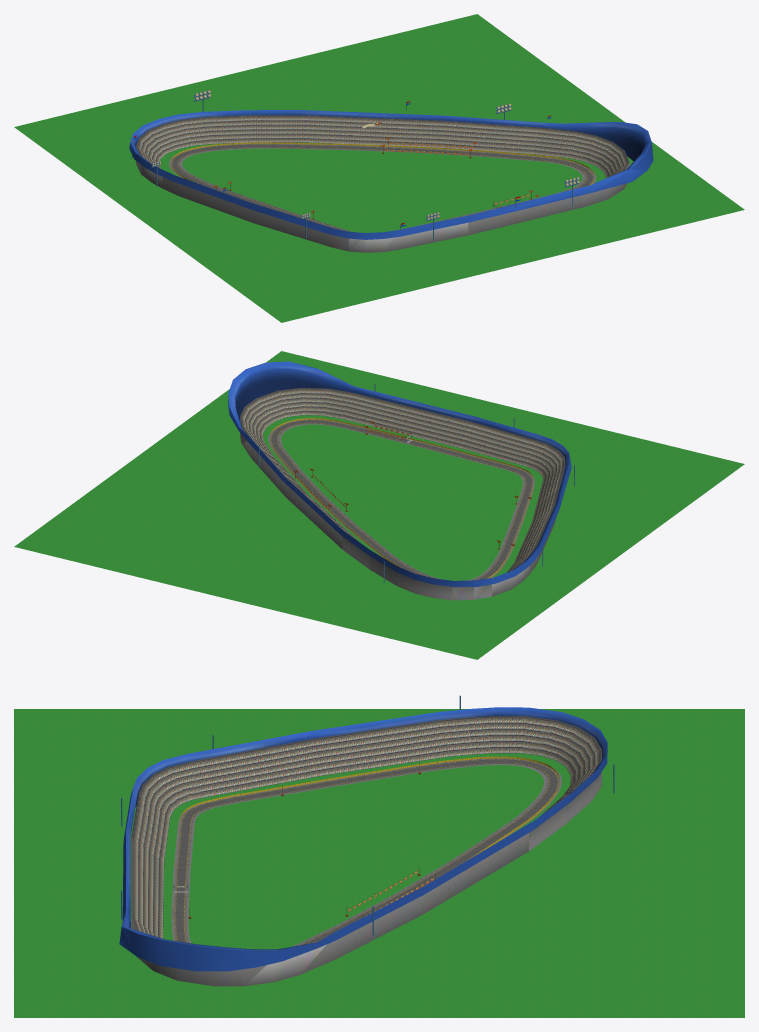
File: speedway_a.glb
3 renders of one model, top to bottom at view 1: azimuth 30°, elevation 25°; view 2: azimuth 150°, elevation 25°; view 3: azimuth 270°, elevation 25°, orthographic. The views are drawn at different scales.
Visible parts, largest first — view 1: ground1, seats, seats2, polySurface27, seats5, seats3, polySurface26, seats4, track_D, polySurface9, polySurface28, polySurface29 (+3 smaller); view 2: ground1, seats2, polySurface27, seats3, seats5, seats, track_D, track_E, seats4, polySurface28, track_A, polySurface9 (+2 smaller); view 3: ground1, seats4, seats3, seats5, seats2, polySurface27, seats, polySurface26, track_D, polySurface29, polySurface28, track_A (+4 smaller).
Boxes of the visible parts, bbox=[...] form: ground1: bbox=[14, 14, 744, 322]; seats: bbox=[252, 115, 540, 154]; seats2: bbox=[468, 127, 629, 235]; polySurface27: bbox=[470, 122, 653, 221]; seats5: bbox=[136, 115, 253, 188]; seats3: bbox=[284, 220, 468, 252]; polySurface26: bbox=[249, 110, 544, 127]; seats4: bbox=[163, 177, 283, 232]; track_D: bbox=[251, 143, 537, 160]; polySurface9: bbox=[281, 212, 470, 239]; polySurface28: bbox=[129, 110, 250, 173]; polySurface29: bbox=[157, 167, 281, 218]; ground1: bbox=[14, 351, 744, 659]; seats2: bbox=[240, 388, 471, 457]; polySurface27: bbox=[228, 361, 474, 441]; seats3: bbox=[460, 422, 565, 506]; seats5: bbox=[370, 556, 529, 600]; seats: bbox=[251, 442, 369, 569]; track_D: bbox=[275, 452, 401, 563]; track_E: bbox=[268, 419, 442, 452]; seats4: bbox=[509, 490, 558, 573]; polySurface28: bbox=[369, 550, 534, 587]; track_A: bbox=[438, 448, 534, 505]; polySurface9: bbox=[472, 416, 571, 492]; ground1: bbox=[14, 709, 744, 1017]; seats4: bbox=[265, 717, 471, 784]; seats3: bbox=[131, 748, 275, 861]; seats5: bbox=[470, 715, 601, 823]; seats2: bbox=[131, 838, 334, 986]; polySurface27: bbox=[119, 832, 334, 971]; seats: bbox=[334, 806, 565, 959]; polySurface26: bbox=[334, 794, 570, 940]; track_D: bbox=[296, 814, 536, 945]; polySurface29: bbox=[262, 708, 472, 747]; polySurface28: bbox=[471, 707, 607, 801]; track_A: bbox=[173, 789, 285, 870].
Size of the model in its own units: 4384 by 356 by 4384.
Materials: 20 (20 with a texture image).
